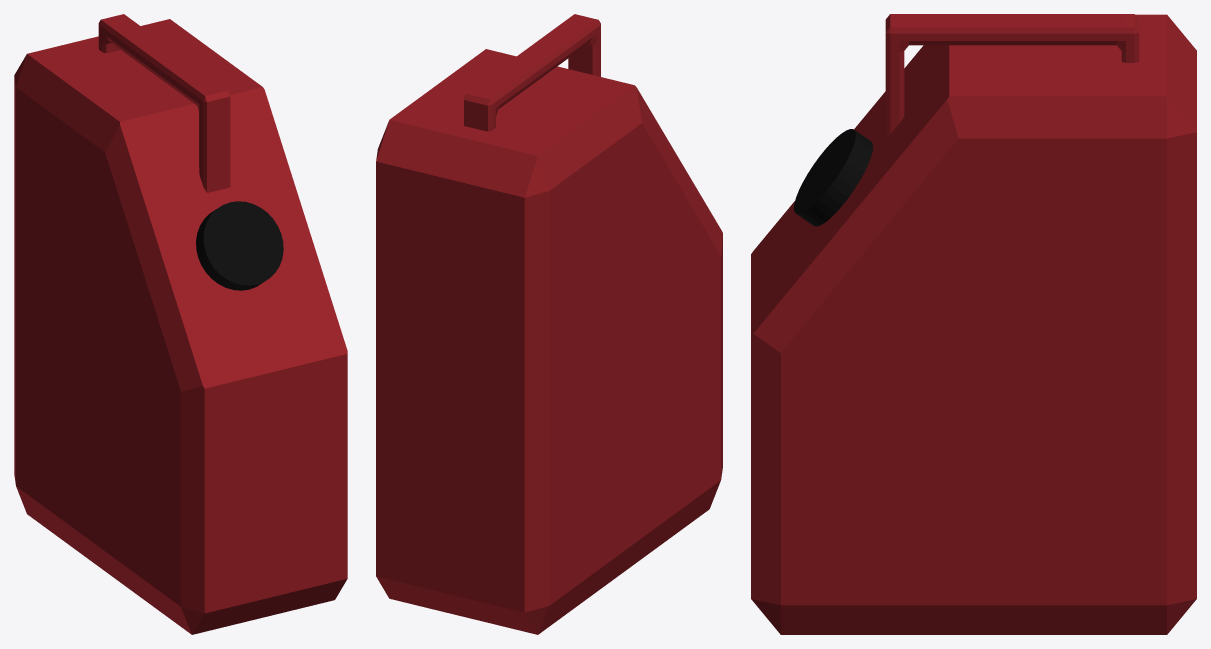
The model's file is ölkanister.fbx.
3 views of the same model, side by side, from view 1: azimuth 30°, elevation 25°; view 2: azimuth 150°, elevation 25°; view 3: azimuth 270°, elevation 25° (orthographic). The views are drawn at different scales.
Visible parts, largest first — view 1: Cylinder; view 2: Cylinder; view 3: Cylinder.
Part boxes in pixels (box(x1,y1,x2,y2)): Cylinder: box(14, 14, 347, 634); Cylinder: box(376, 14, 722, 634); Cylinder: box(751, 14, 1196, 634).
Size of the model in its own units: 15 by 42.58 by 30.
